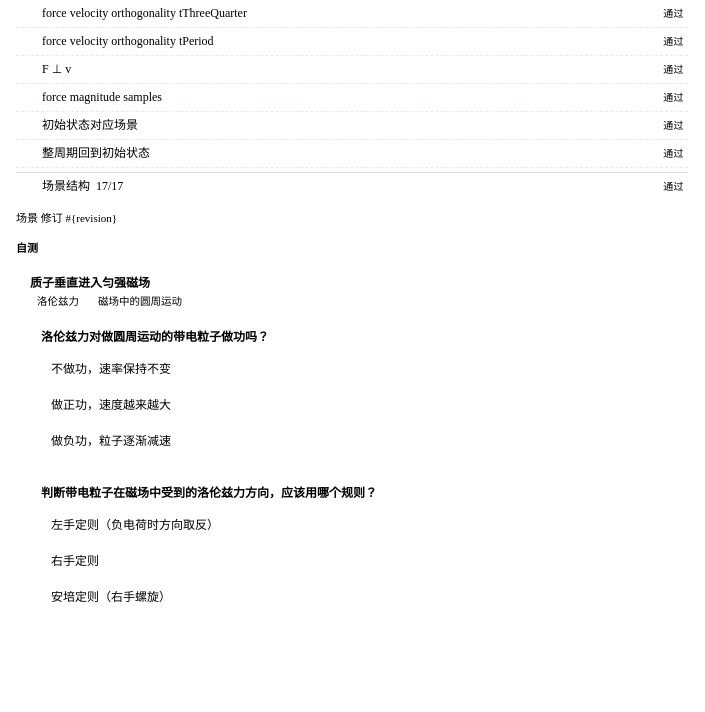
Scenario: solved-card self-checks (the migrated practice loop) › diagnoses a wrong answer with class, evidence and review, and records it
(page scrolled)
Click the button "做正功，速度越来越大".
click(111, 405)  # box [41,390,663,420]
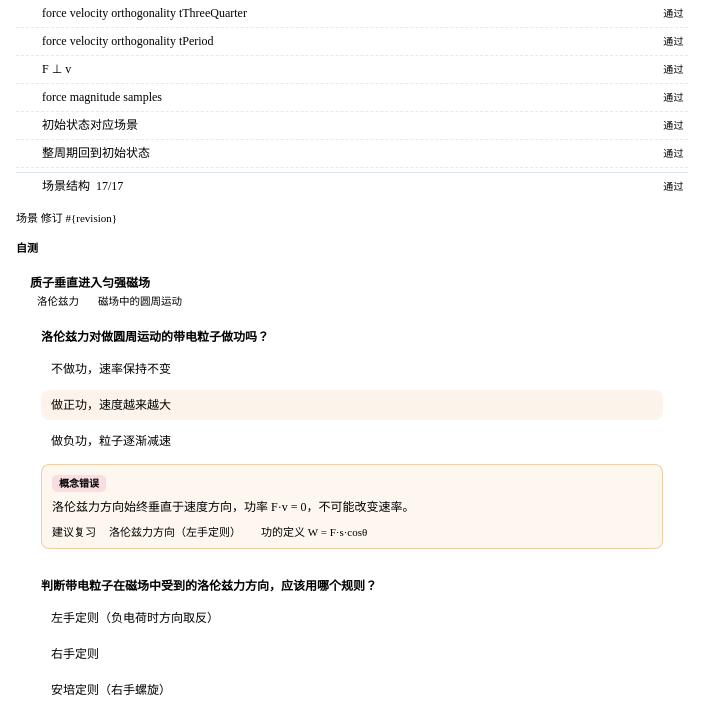
Check: the text "概念错误" is shown, box [52,475,106,492]
Check: the text "洛伦兹力方向始终垂直于速度方向，功率 F·v = 0，不可能改变速率。" is shown, box [52,500,414,514]
Check: the text "洛伦兹力方向（左手定则）" is shown, box [102,522,248,540]
